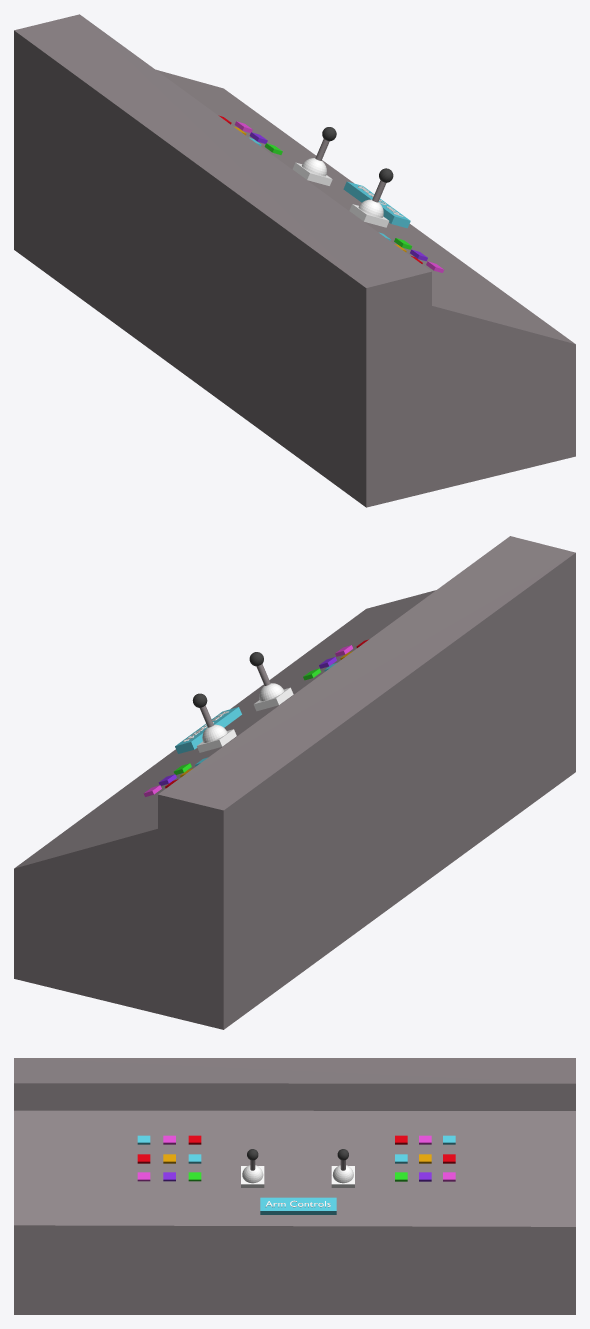
The model's file is instrumentpanel.fbx.
3 views of the same model, one above another, from view 1: azimuth 30°, elevation 25°; view 2: azimuth 150°, elevation 25°; view 3: azimuth 270°, elevation 25° (orthographic). The views are drawn at different scales.
Parts seen in each view (by area): view 1: Control_Deck, Cube; view 2: Control_Deck, Cube; view 3: Control_Deck, Cube.
Part boxes in pixels (left/top/right/bottom): Control_Deck: left=14, top=14, right=575, bottom=507; Cube: left=343, top=181, right=410, bottom=228; Control_Deck: left=14, top=536, right=575, bottom=1029; Cube: left=175, top=707, right=241, bottom=753; Control_Deck: left=14, top=1058, right=575, bottom=1314; Cube: left=260, top=1197, right=336, bottom=1214.
Size of the model in its own units: 200 by 201 by 582.
